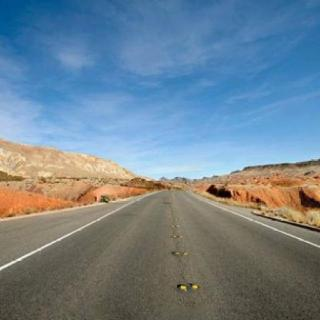Cirrostratus: (0, 0, 320, 154)
